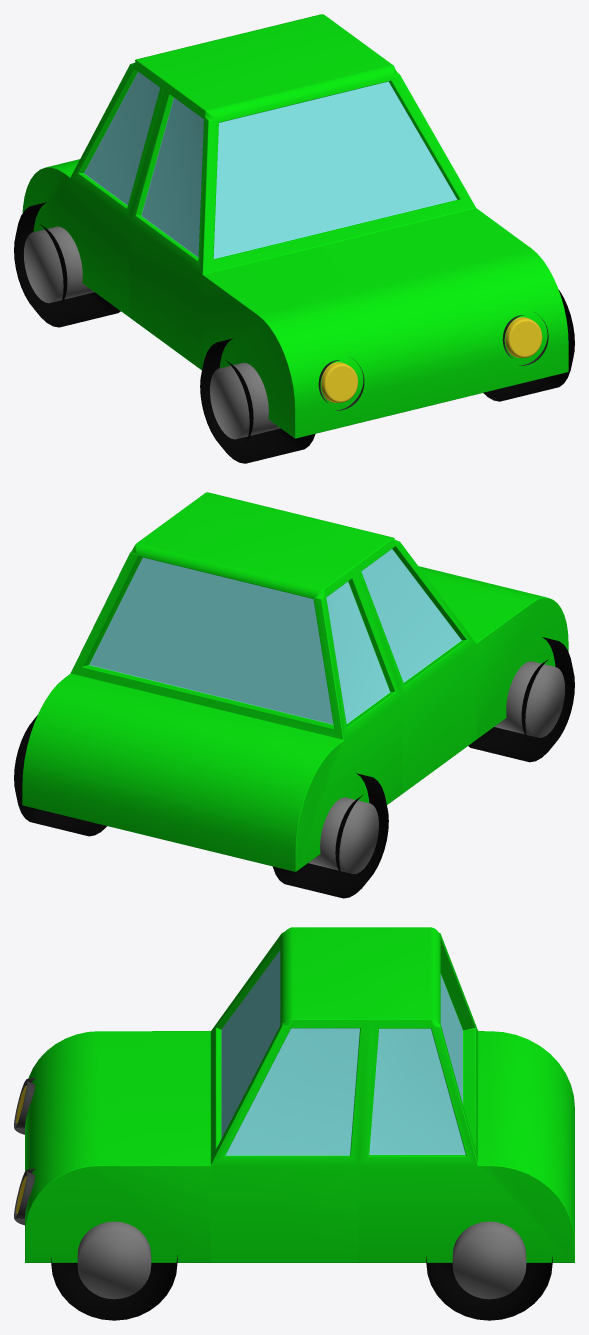
The model's file is car1.fbx.
3 renders of one model, top to bottom at view 1: azimuth 30°, elevation 25°; view 2: azimuth 150°, elevation 25°; view 3: azimuth 270°, elevation 25°, orthographic.
Visible parts, largest first — view 1: 立方体, 立方体.006, 立方体.001, 立方体.005, 立方体.003, 円.001, 円.005, 立方体.007, 円.003, 円.002, 円.007; view 2: 立方体.005, 立方体.007, 立方体.002, 立方体.003, 立方体, 円.005, 円.001, 立方体.006, 円.004; view 3: 立方体.007, 立方体.006, 立方体.004, 立方体, 立方体.005, 円.003, 円.004, 立方体.001, 立方体.002, 円.007, 円.002.
Part boxes in pixels (bbox=[...]): 立方体: bbox=[131, 59, 431, 438]; 立方体.006: bbox=[261, 36, 568, 405]; 立方体.001: bbox=[213, 82, 456, 258]; 立方体.005: bbox=[22, 37, 260, 316]; 立方体.003: bbox=[129, 83, 208, 369]; 円.001: bbox=[200, 338, 315, 463]; 円.005: bbox=[14, 202, 120, 327]; 立方体.007: bbox=[229, 14, 353, 59]; 円.003: bbox=[483, 289, 574, 401]; 円.002: bbox=[502, 314, 548, 365]; 円.007: bbox=[318, 358, 364, 410]; 立方体.005: bbox=[159, 543, 402, 871]; 立方体.007: bbox=[22, 521, 259, 838]; 立方体.002: bbox=[90, 557, 333, 723]; 立方体.003: bbox=[354, 539, 476, 792]; 立方体: bbox=[261, 515, 568, 792]; 円.005: bbox=[272, 773, 388, 898]; 円.001: bbox=[468, 637, 574, 762]; 立方体.006: bbox=[167, 492, 299, 543]; 円.004: bbox=[14, 715, 107, 836]; 立方体.007: bbox=[359, 973, 574, 1262]; 立方体.006: bbox=[25, 973, 369, 1262]; 立方体.004: bbox=[211, 1020, 369, 1262]; 立方体: bbox=[25, 927, 369, 1161]; 立方体.005: bbox=[370, 927, 574, 1172]; 円.003: bbox=[51, 1221, 177, 1320]; 円.004: bbox=[426, 1221, 552, 1320]; 立方体.001: bbox=[221, 951, 280, 1137]; 立方体.002: bbox=[440, 975, 462, 1102]; 円.007: bbox=[14, 1078, 35, 1134]; 円.002: bbox=[14, 1168, 36, 1225].
Size of the model in its own units: 3.92 by 3.11 by 5.82.
